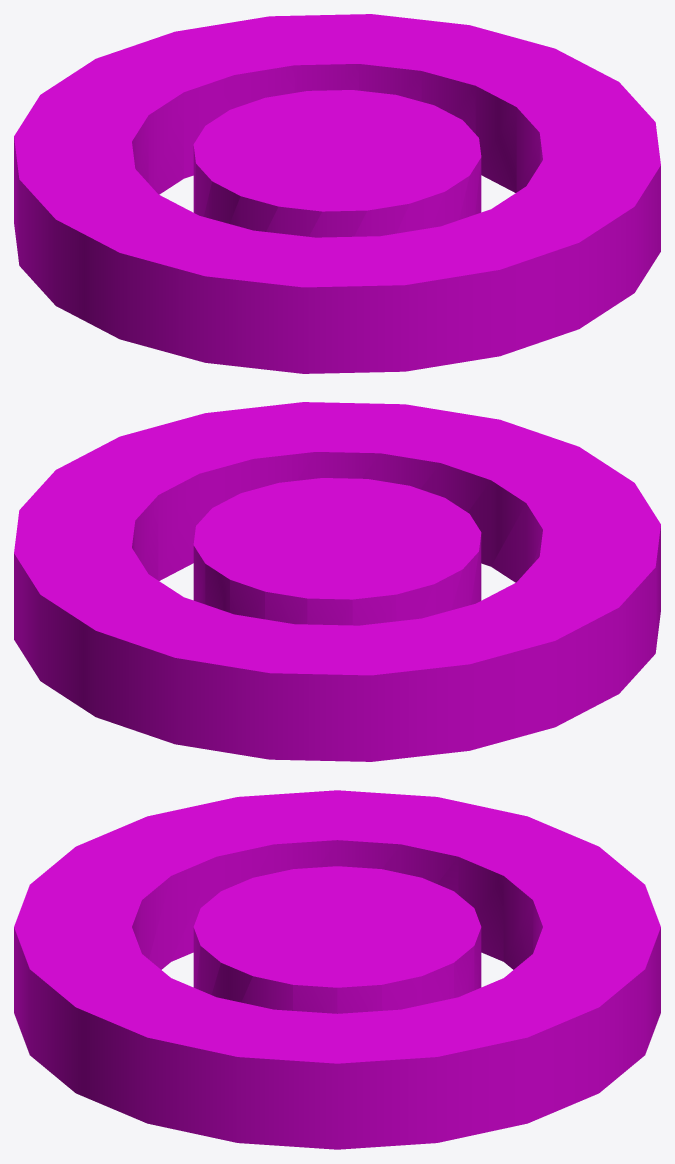
Rendered from o module.fbx.
3 renders of one model, top to bottom at view 1: azimuth 30°, elevation 25°; view 2: azimuth 150°, elevation 25°; view 3: azimuth 270°, elevation 25°, orthographic.
Parts seen in each view (by area): view 1: pCylinder4; view 2: pCylinder4; view 3: pCylinder4.
Part boxes in pixels (x1,y1,x2,y2): pCylinder4: (14,14,660,373); pCylinder4: (14,402,660,761); pCylinder4: (14,790,660,1149).
Size of the model in its own units: 2 by 0.2934 by 2.
